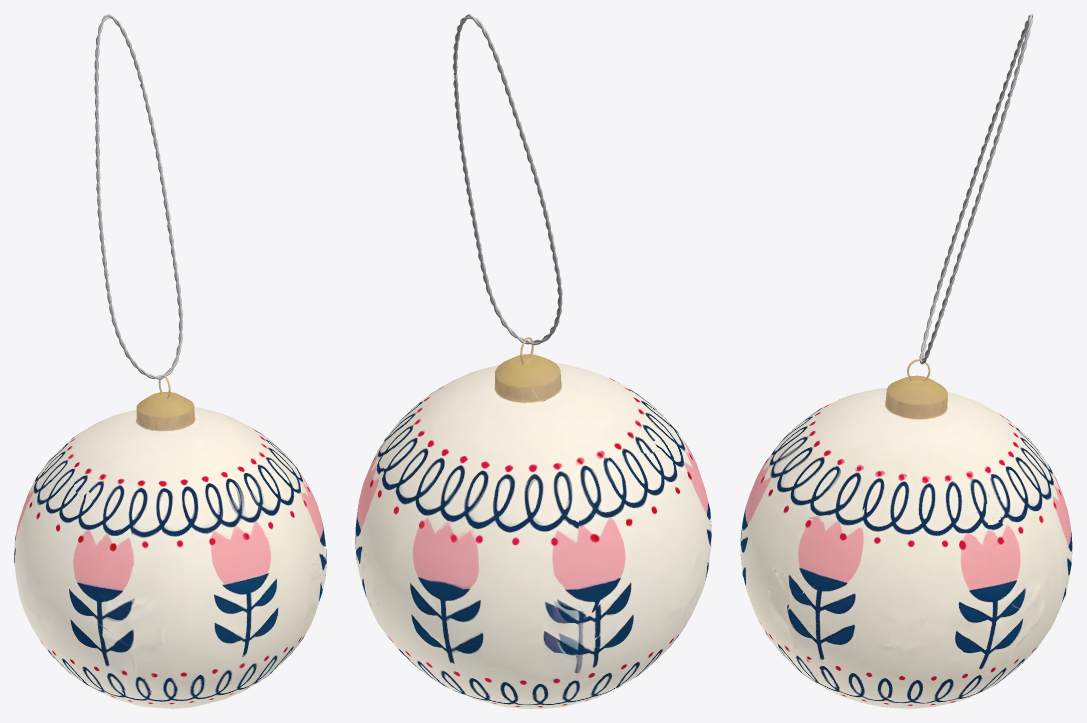
The picture shows the model from 3 angles, left to right: view 1: azimuth 30°, elevation 25°; view 2: azimuth 150°, elevation 25°; view 3: azimuth 270°, elevation 25°; orthographic projection. The views are drawn at different scales.
Visible parts, largest first — view 1: Mesh1.0, GN Instance; view 2: Mesh1.0, GN Instance; view 3: Mesh1.0, GN Instance.
Boxes of the visible parts, x1,y1,x2,y2 form: Mesh1.0: (14,374,326,708); GN Instance: (94,14,182,379); Mesh1.0: (355,337,711,708); GN Instance: (452,14,562,345); Mesh1.0: (740,359,1072,708); GN Instance: (919,14,1033,364).
Bounding box in the file's own units: 0.08 × 0.1798 × 0.08.
Materials: 2 (1 with a texture image).
